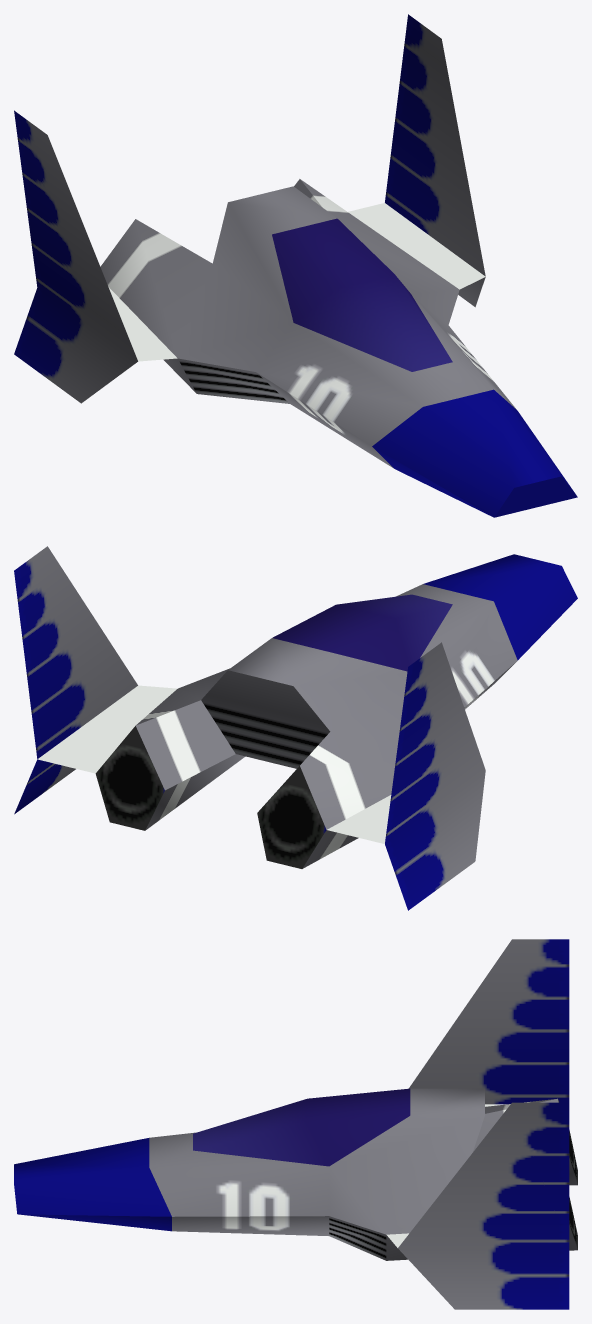
3 renders of one model, top to bottom at view 1: azimuth 30°, elevation 25°; view 2: azimuth 150°, elevation 25°; view 3: azimuth 270°, elevation 25°, orthographic. The views are drawn at different scales.
Visible parts, largest first — view 1: Joint_0_Object_0; view 2: Joint_0_Object_0; view 3: Joint_0_Object_0.
Boxes of the visible parts, x1=… form: Joint_0_Object_0: x1=14, y1=14, x2=577, y2=517; Joint_0_Object_0: x1=14, y1=546, x2=577, y2=910; Joint_0_Object_0: x1=14, y1=939, x2=577, y2=1309.
Size of the model in its own units: 33.81 by 20 by 49.34.
Materials: 1 (1 with a texture image).
